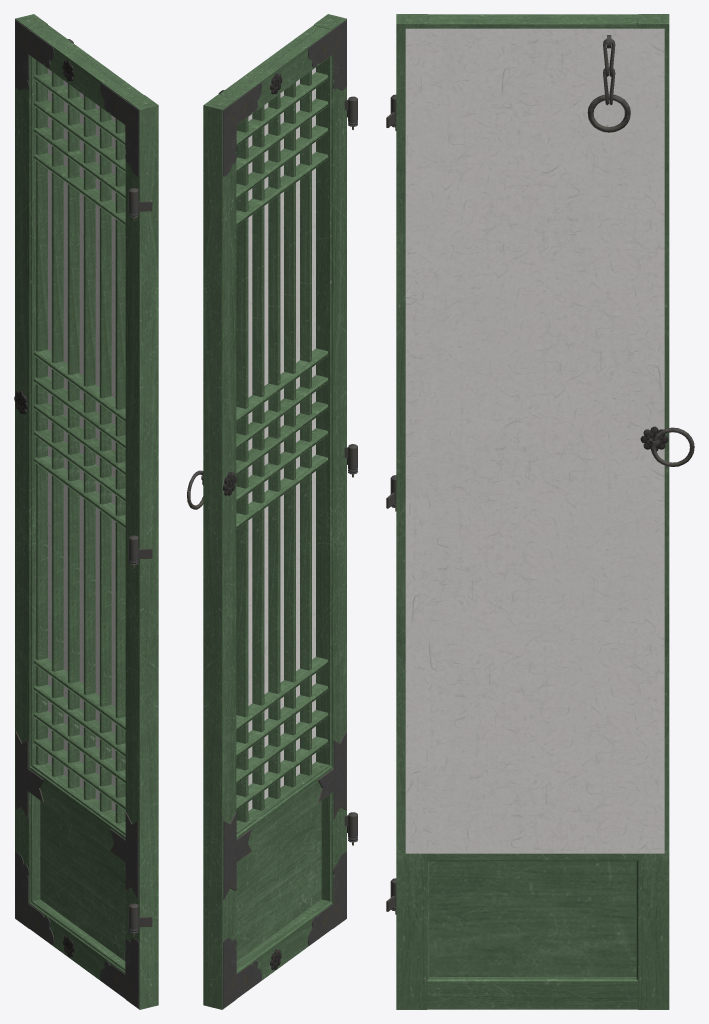
File: SM_Door09D.fbx
3 renders of one model, left to right at view 1: azimuth 30°, elevation 25°; view 2: azimuth 150°, elevation 25°; view 3: azimuth 270°, elevation 25°, orthographic. The views are drawn at different scales.
Parts seen in each view (by area): view 1: SM_Door09D; view 2: SM_Door09D; view 3: SM_Door09D.
Part boxes in pixels (left/top/right/bottom): SM_Door09D: left=14, top=14, right=158, bottom=1009; SM_Door09D: left=187, top=14, right=357, bottom=1009; SM_Door09D: left=386, top=14, right=694, bottom=1009.
Bounding box in the file's own units: 12.05 × 70.86 × 250.
